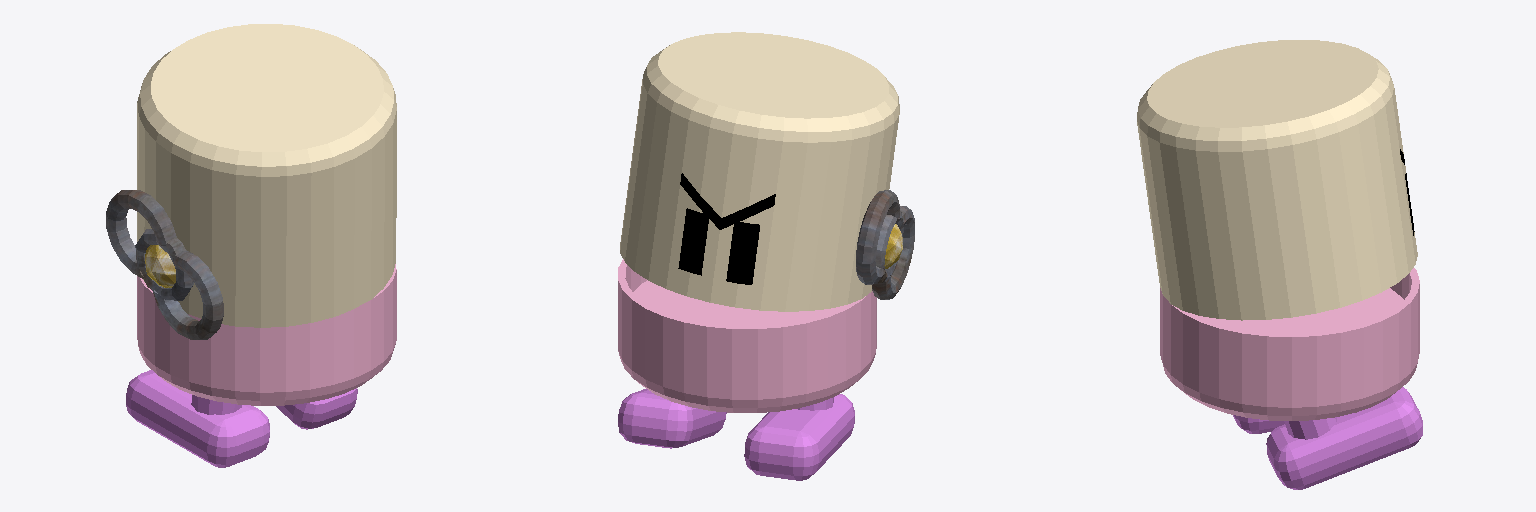
3 views of the same model, side by side, from view 1: azimuth 30°, elevation 25°; view 2: azimuth 150°, elevation 25°; view 3: azimuth 270°, elevation 25° (orthographic).
Visible parts, largest first — view 1: Head, Jaw, WindupKey, LeftLeg, RightLeg; view 2: Head, Jaw, LeftLeg, WindupKey, RightLeg; view 3: Head, Jaw, RightLeg, LeftLeg.
Boxes of the visible parts, x1=… form: Head: x1=137, y1=24, x2=396, y2=327; Jaw: x1=137, y1=264, x2=396, y2=405; WindupKey: x1=106, y1=190, x2=223, y2=339; LeftLeg: x1=126, y1=370, x2=269, y2=467; RightLeg: x1=276, y1=388, x2=357, y2=429; Head: x1=620, y1=32, x2=899, y2=311; Jaw: x1=618, y1=259, x2=876, y2=412; LeftLeg: x1=744, y1=394, x2=854, y2=480; WindupKey: x1=856, y1=190, x2=914, y2=299; RightLeg: x1=618, y1=389, x2=726, y2=448; Head: x1=1137, y1=40, x2=1417, y2=320; Jaw: x1=1160, y1=268, x2=1419, y2=420; RightLeg: x1=1266, y1=387, x2=1422, y2=489; LeftLeg: x1=1233, y1=415, x2=1284, y2=433.
Bounding box in the file's own units: 114 × 161 × 110.
6 materials, 2 textured.